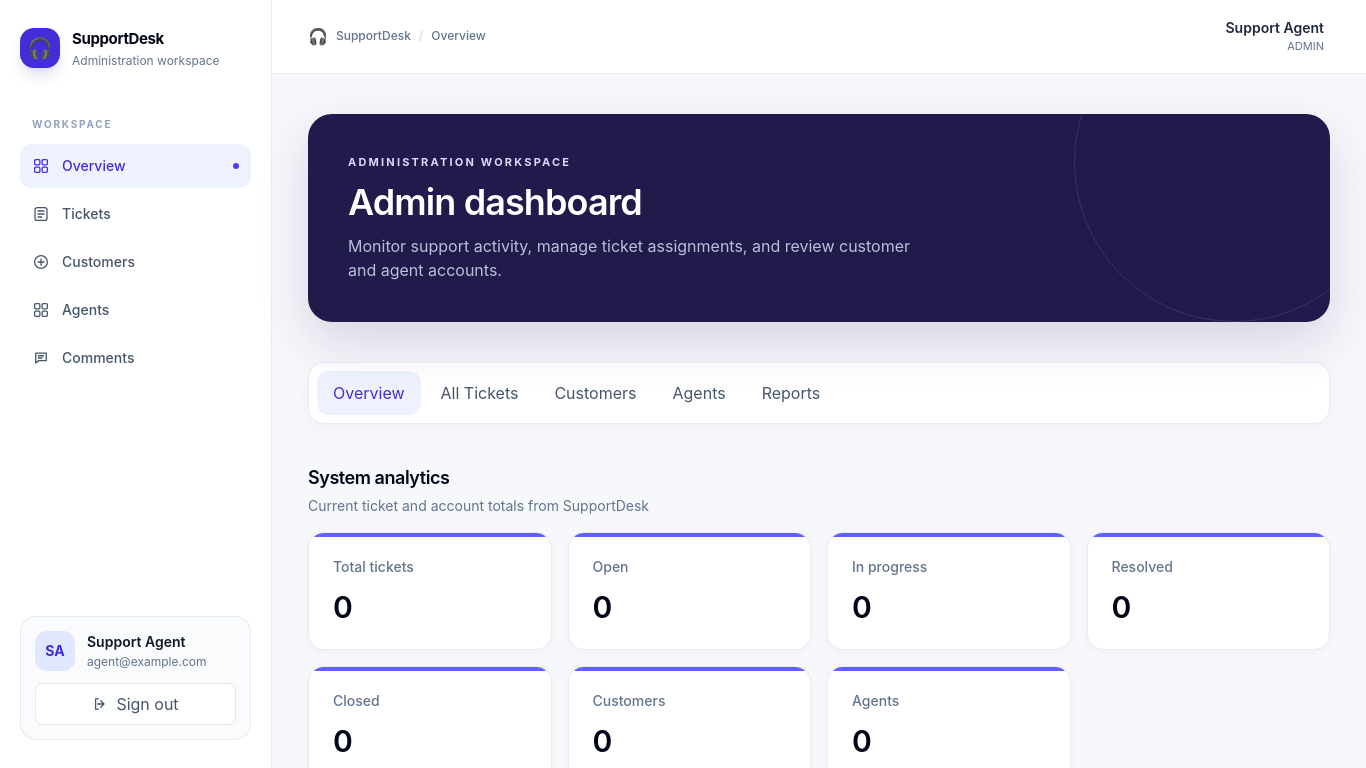
Test: SupportDesk frontend foundation › opens the ADMIN Comments view from the sidebar
Click the link "Comments" at (83, 358), box [32,348,134,366]
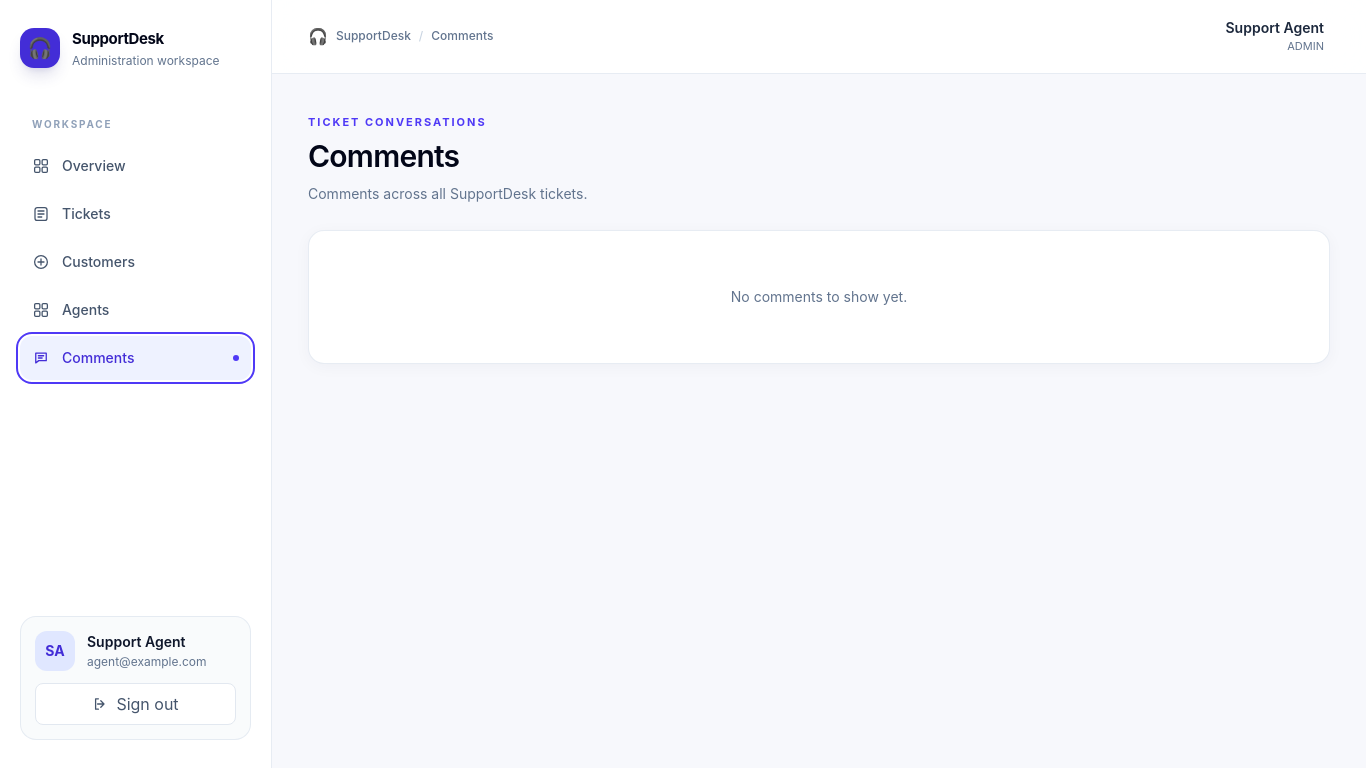
Check: the heading "Comments" is shown, box [308,138,459,174]
Check: the text "No comments to show yet." is shown, box [731,288,907,305]
